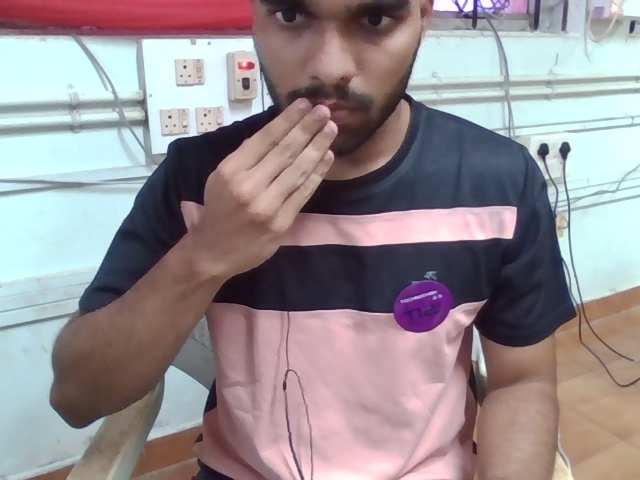eat: (177, 85, 365, 311)
